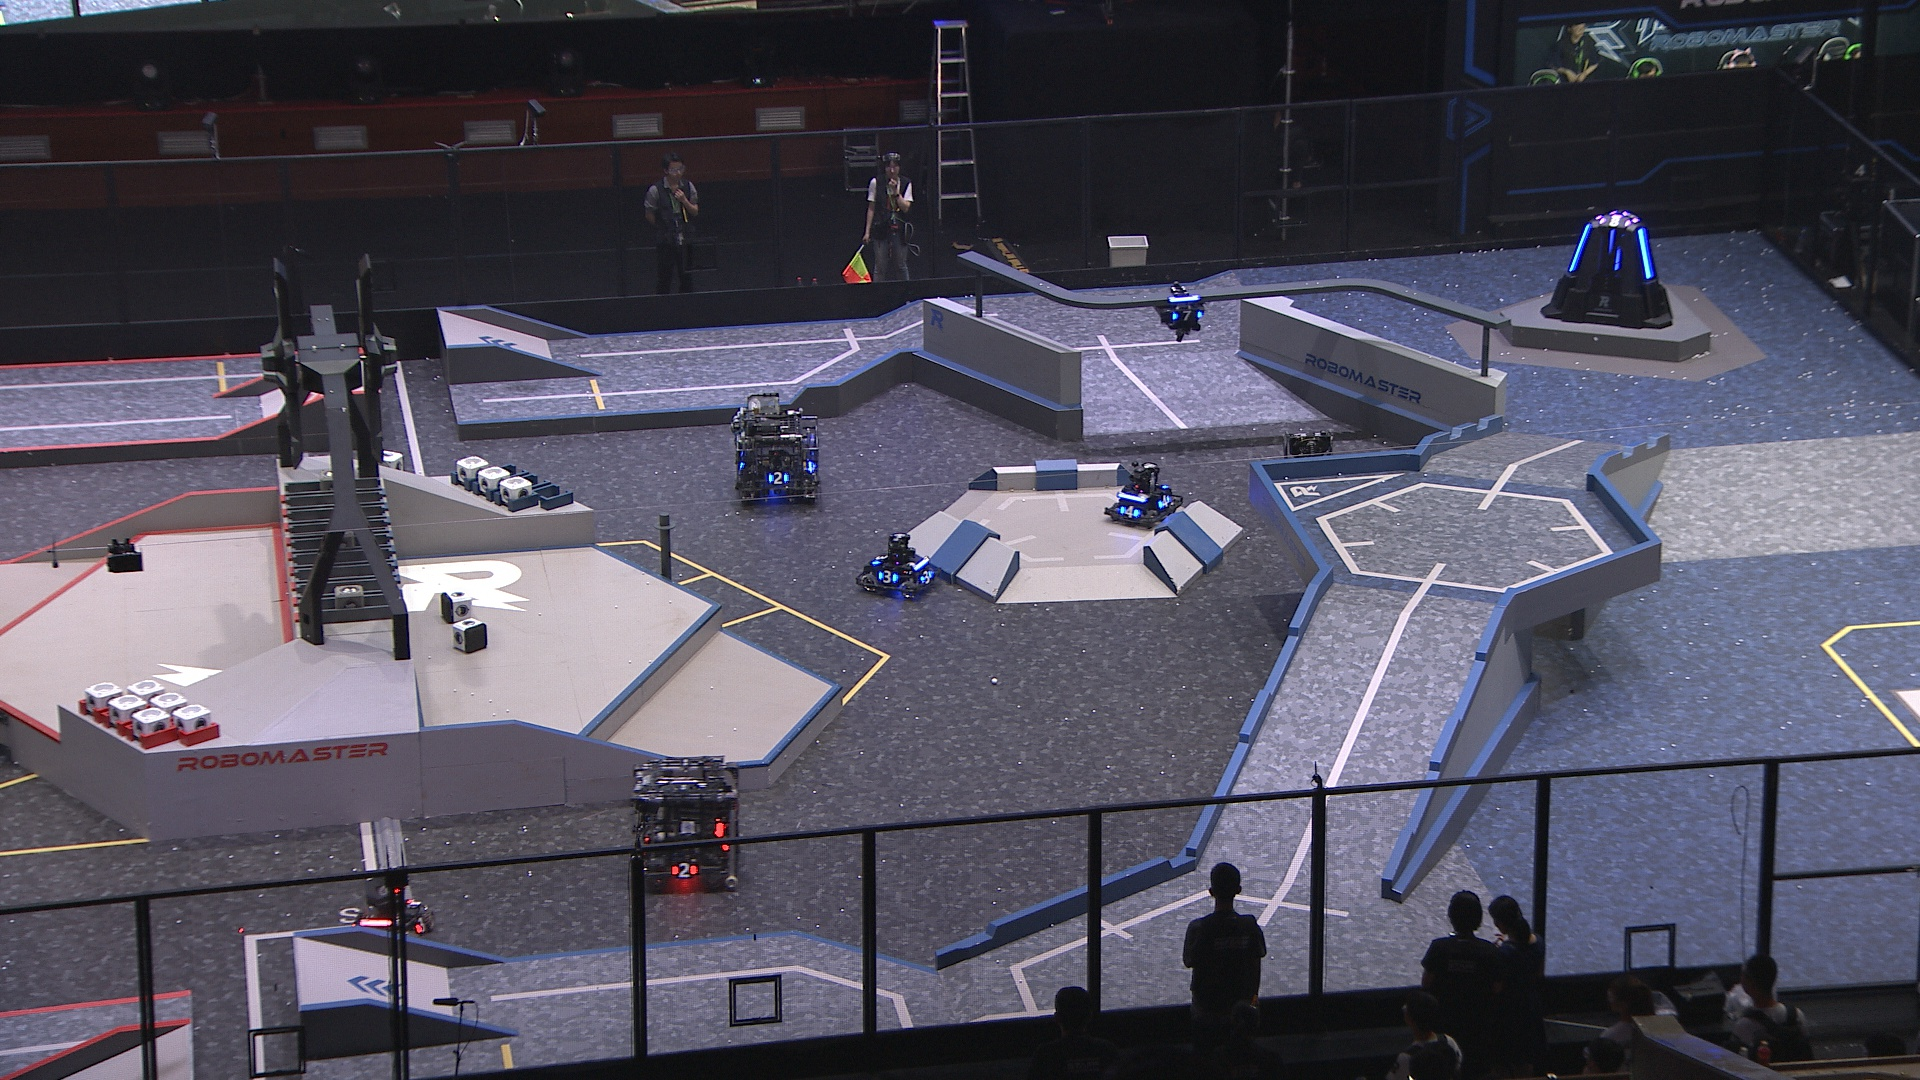armor: (1567, 222, 1593, 276), (1634, 225, 1655, 281), (1117, 502, 1145, 524), (764, 467, 793, 487), (1168, 309, 1205, 323), (671, 861, 699, 880), (876, 567, 901, 585), (411, 915, 430, 935), (916, 566, 935, 585), (1607, 225, 1619, 255), (1156, 491, 1174, 510), (868, 551, 889, 566)
base: (1538, 204, 1673, 332)
car: (622, 752, 746, 895), (731, 390, 828, 505), (1269, 429, 1367, 531), (334, 862, 439, 949), (856, 529, 942, 605), (1102, 460, 1185, 529)
ignore: (1596, 214, 1633, 229)
watcher: (1155, 280, 1207, 345)
